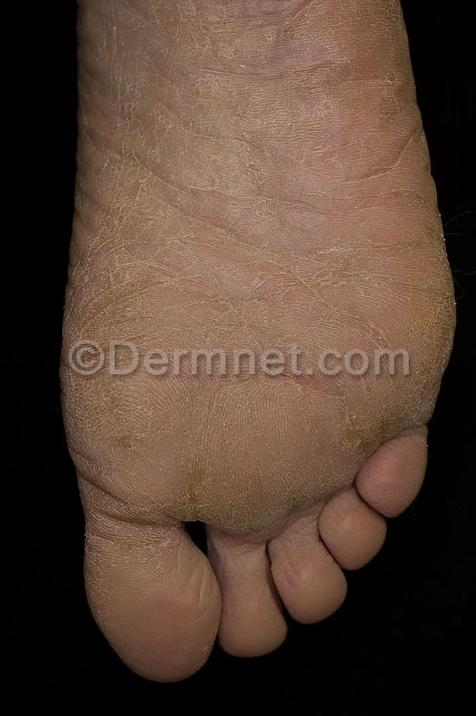xerosis 3: (77, 0, 461, 627)
